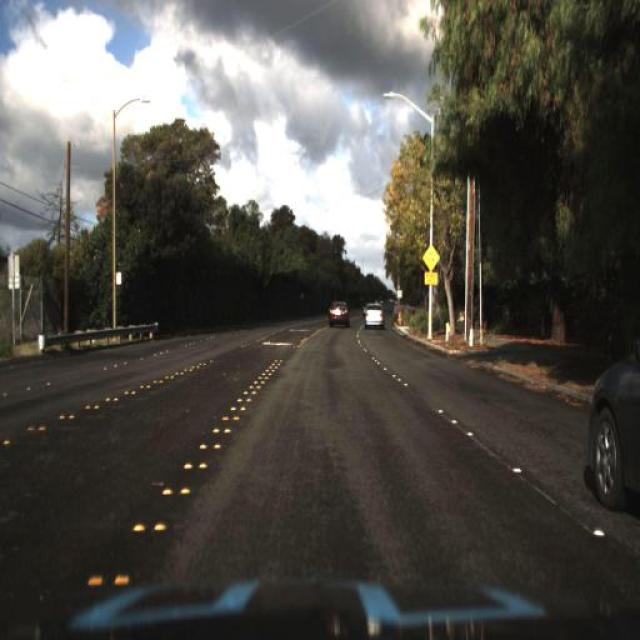car: (587, 343, 639, 521), (323, 295, 351, 335), (359, 299, 387, 332)
